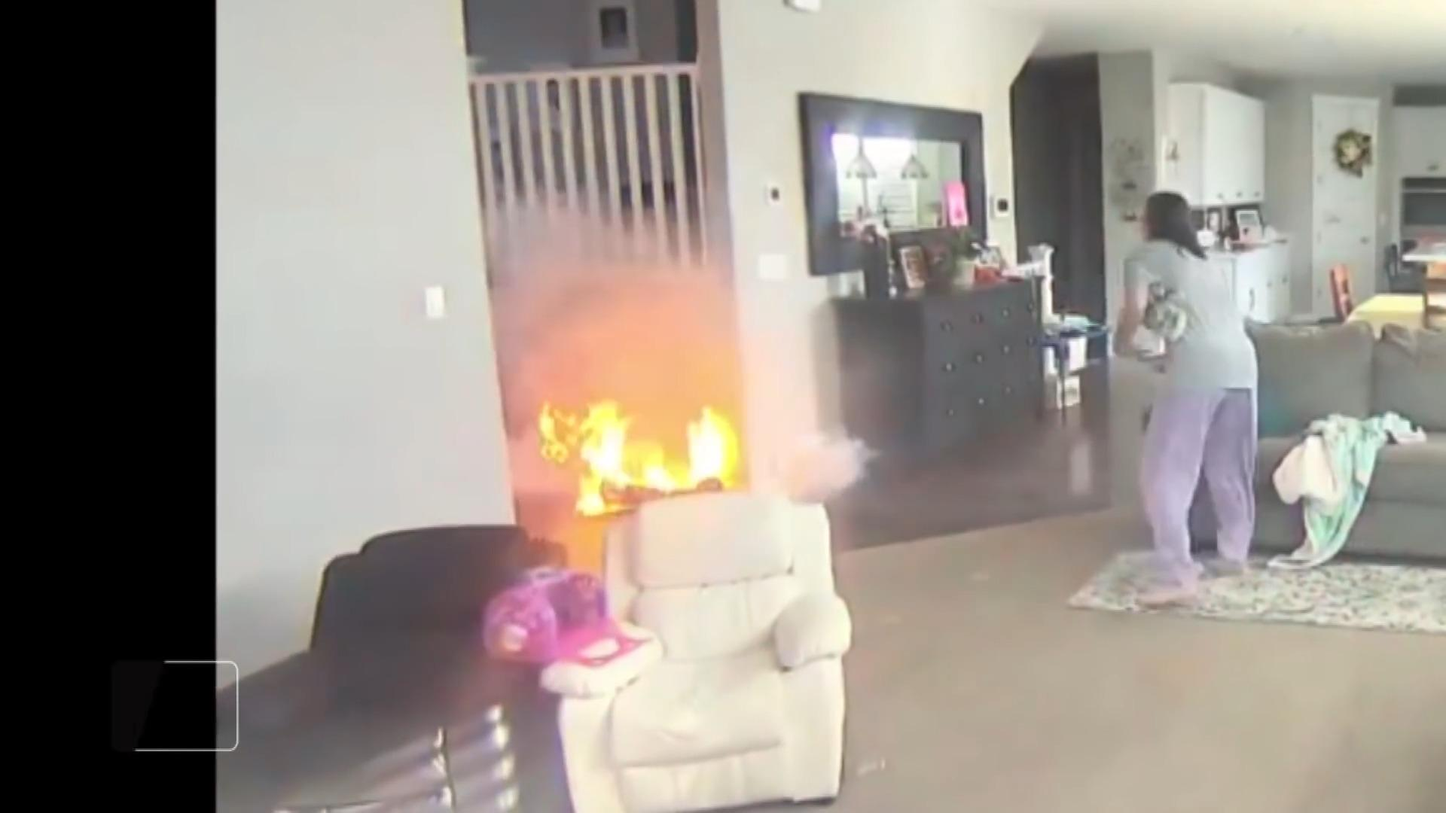fire: (539, 400, 739, 514)
